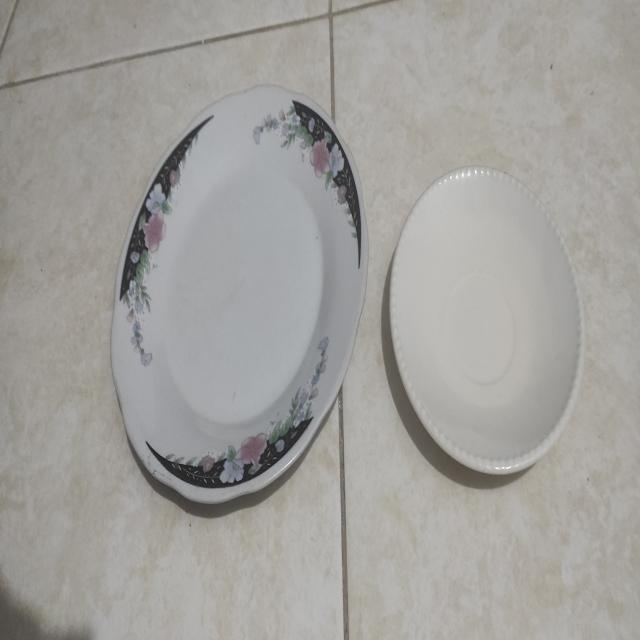non-organic waste: (91, 73, 376, 527), (382, 146, 594, 494)
